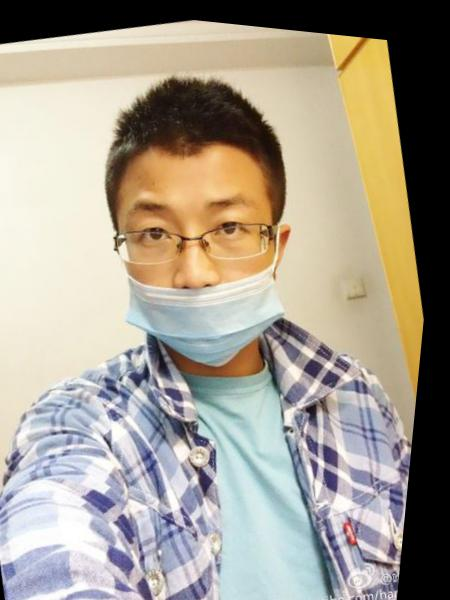WRONG: (93, 157, 320, 385)
